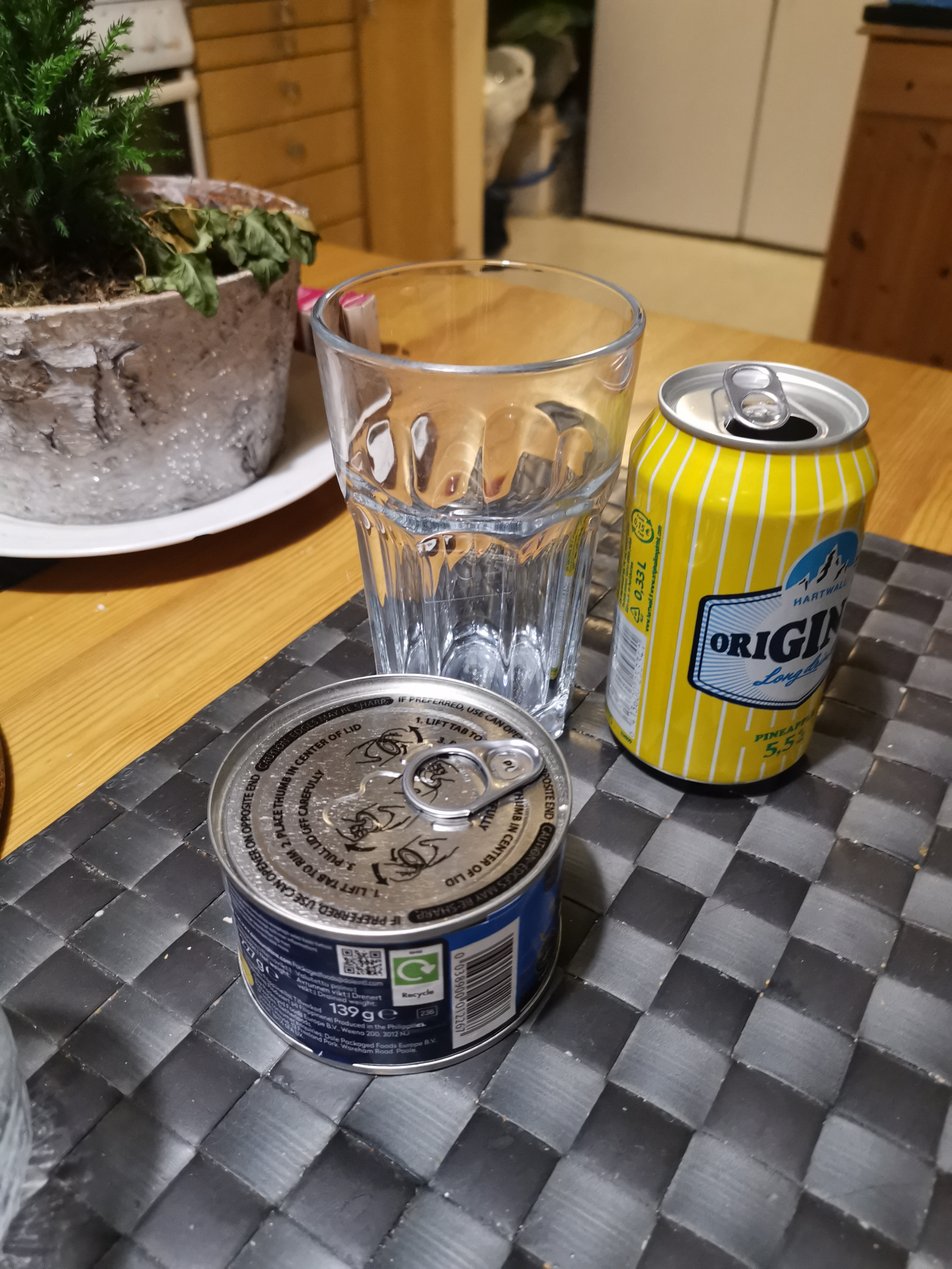Konservburk: (203, 669, 576, 1079)
Pantburk: (600, 356, 885, 789)
